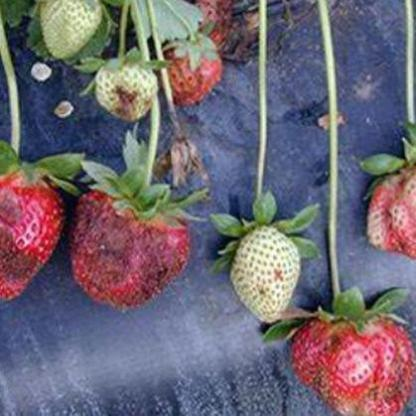Strawberry_Anthracnose_Fruit_Rot: (70, 190, 191, 310), (0, 187, 47, 289), (162, 47, 226, 104), (105, 82, 154, 122), (269, 260, 292, 287)
